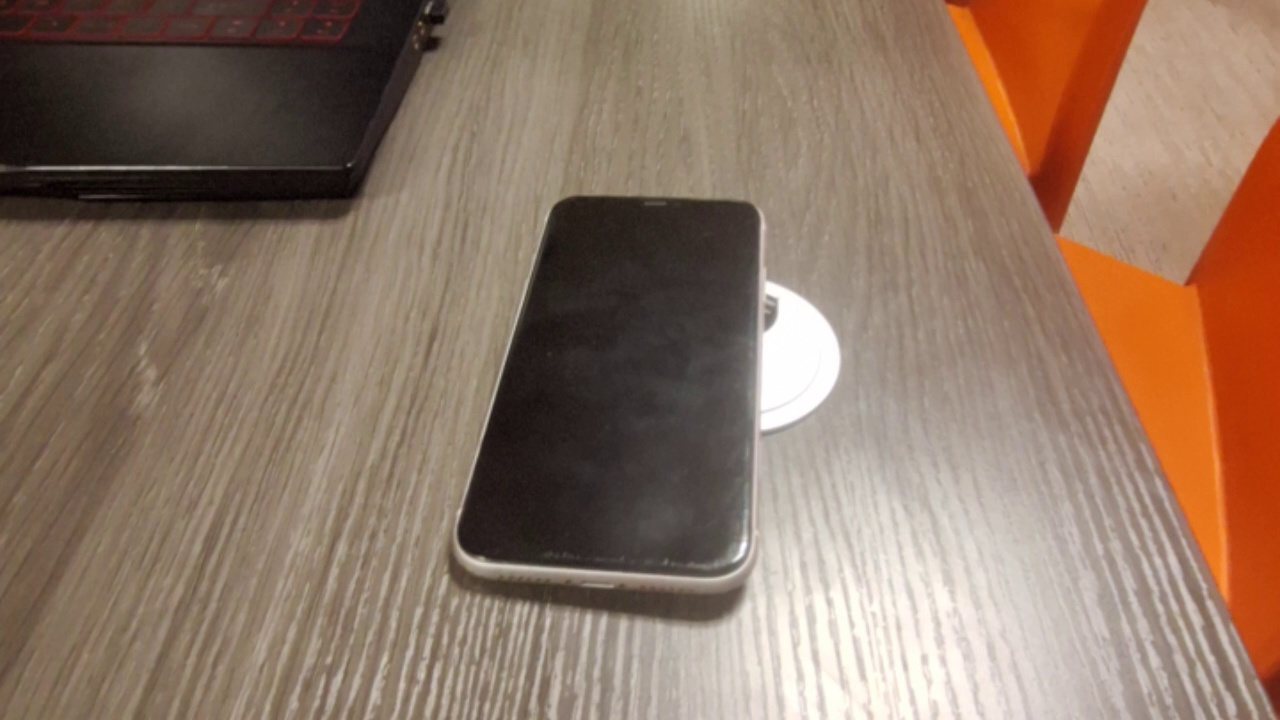celular: (452, 195, 763, 616)
